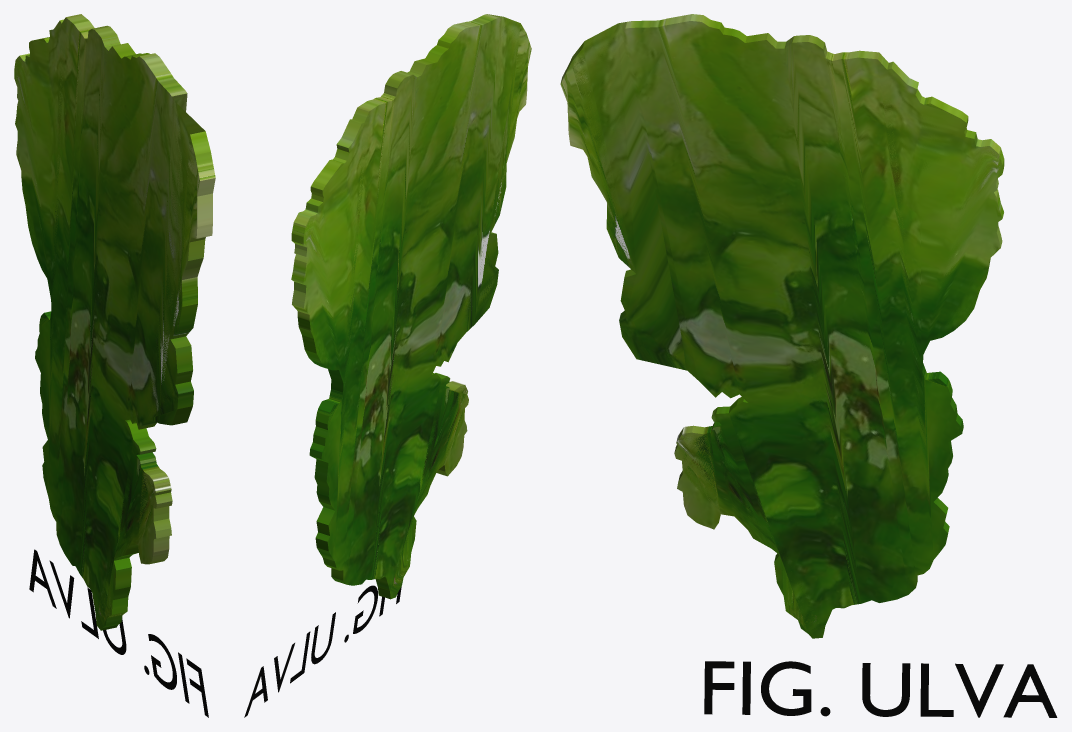
The model's file is Thallophyta1_RushalNandeshwar.gltf.
3 views of the same model, side by side, from view 1: azimuth 30°, elevation 25°; view 2: azimuth 150°, elevation 25°; view 3: azimuth 270°, elevation 25° (orthographic). The views are drawn at different scales.
Parts seen in each view (by area): view 1: Plane.005, TEXT.005; view 2: Plane.005, TEXT.005; view 3: Plane.005, TEXT.005.
Part boxes in pixels (left/top/right/bottom): Plane.005: left=14, top=14, right=215, bottom=630; TEXT.005: left=29, top=549, right=208, bottom=717; Plane.005: left=291, top=14, right=531, bottom=599; TEXT.005: left=244, top=585, right=401, bottom=717; Plane.005: left=560, top=14, right=1004, bottom=638; TEXT.005: left=704, top=661, right=1057, bottom=717.
Bounding box in the file's own units: 7.55 × 60.18 × 40.46.
2 materials, 1 textured.
